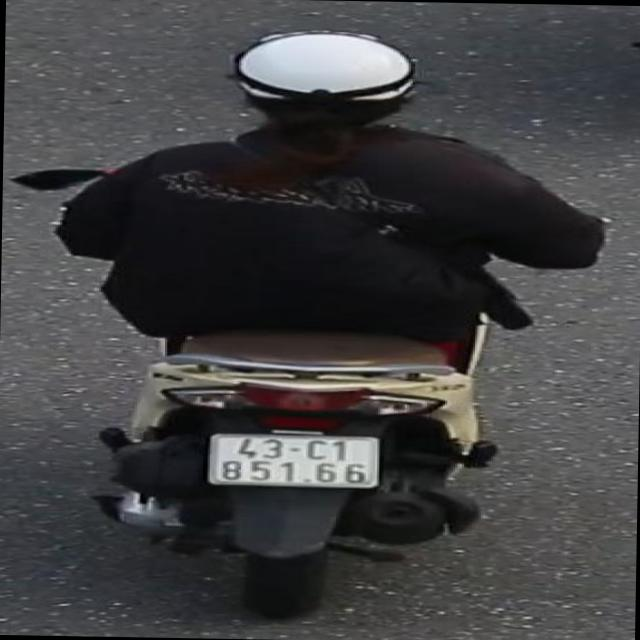LP: (192, 422, 394, 504)
helmet: (220, 22, 422, 126)
